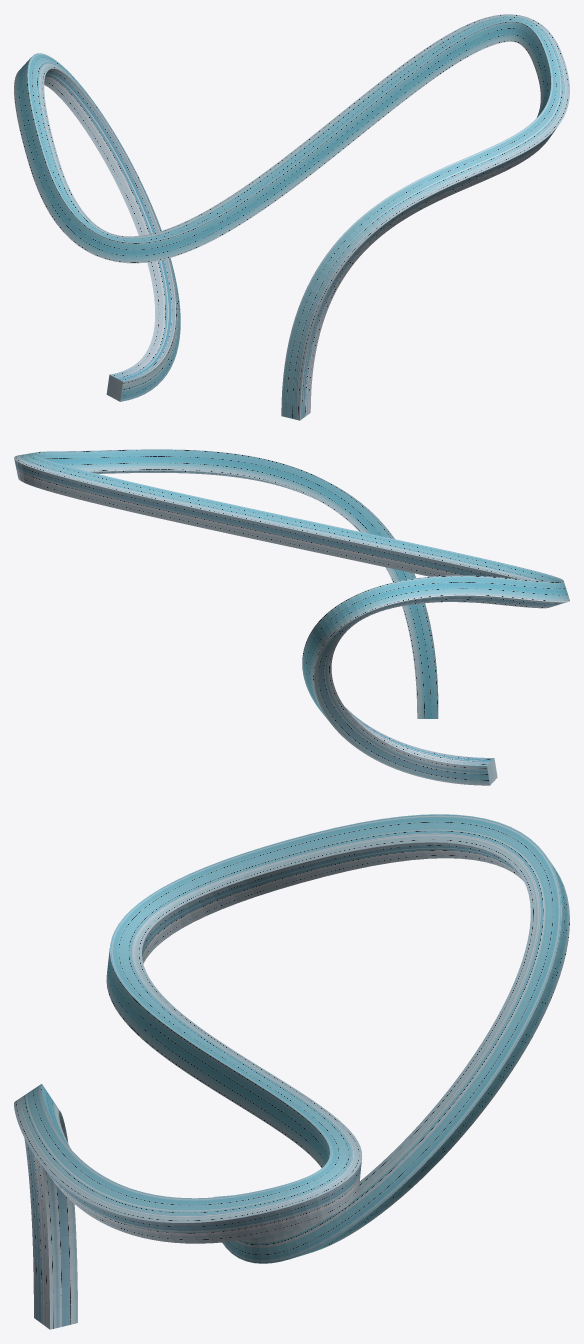
File: Building2.fbx
3 renders of one model, top to bottom at view 1: azimuth 30°, elevation 25°; view 2: azimuth 150°, elevation 25°; view 3: azimuth 270°, elevation 25°, orthographic. The views are drawn at different scales.
Visible parts, largest first — view 1: BezierCurve.002; view 2: BezierCurve.002; view 3: BezierCurve.002.
Boxes of the visible parts, <box> form: BezierCurve.002: <box>14,14,569,420</box>; BezierCurve.002: <box>14,449,569,785</box>; BezierCurve.002: <box>14,814,569,1329</box>.
Bounding box in the file's own units: 397 × 198 × 243.
